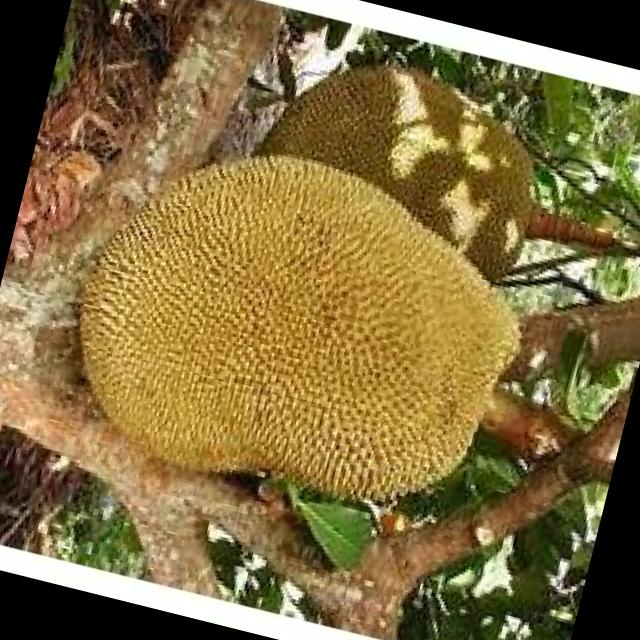Fruit: (6, 82, 489, 560)
